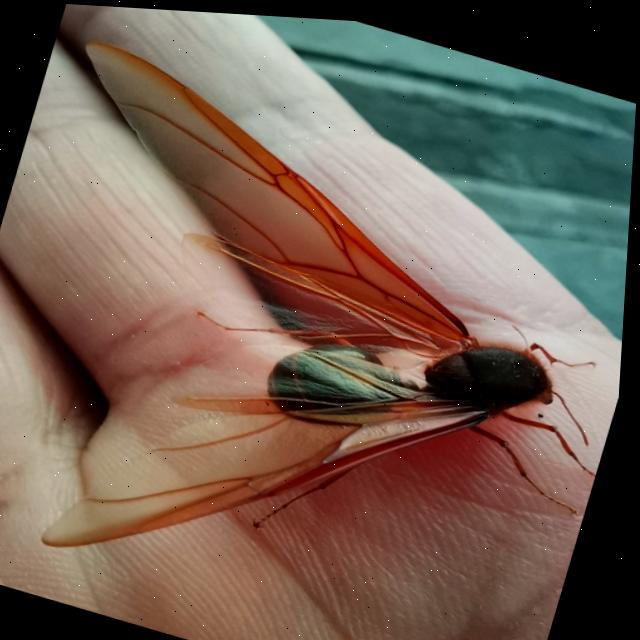Alive-Male-Alate: (0, 32, 639, 640)
